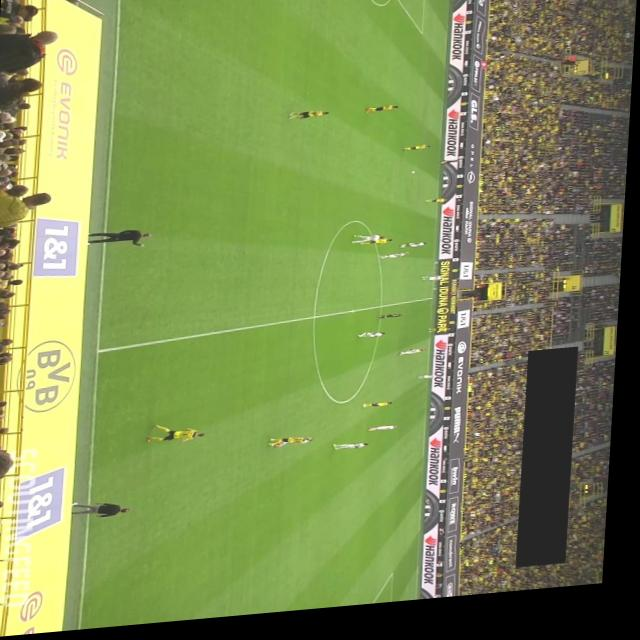player: (150, 425, 211, 449), (273, 440, 319, 453), (290, 115, 330, 126), (354, 239, 387, 251), (338, 448, 374, 457), (363, 245, 396, 254), (366, 113, 400, 121), (404, 152, 433, 160), (361, 339, 390, 347), (402, 356, 430, 364), (372, 432, 404, 439), (430, 334, 456, 342), (382, 260, 411, 267), (367, 409, 398, 415), (424, 283, 448, 290), (402, 250, 430, 256), (428, 206, 449, 213), (421, 383, 439, 388)
referee: (440, 167, 463, 175), (381, 321, 409, 327)
